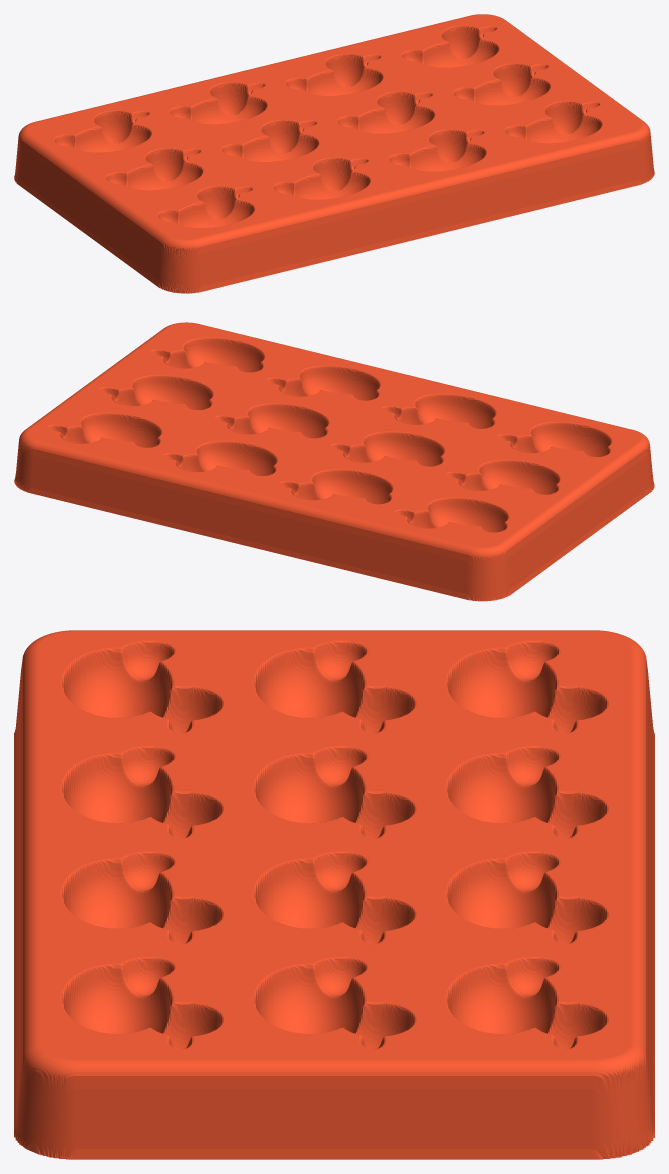
Rendered from mold.glb.
3 views of the same model, one above another, from view 1: azimuth 30°, elevation 25°; view 2: azimuth 150°, elevation 25°; view 3: azimuth 270°, elevation 25° (orthographic). The views are drawn at different scales.
Visible parts, largest first — view 1: geometry_0; view 2: geometry_0; view 3: geometry_0.
Part boxes in pixels (x1,y1,x2,y2): geometry_0: (14,14,654,293); geometry_0: (14,322,654,601); geometry_0: (14,630,654,1159).
Bounding box in the file's own units: 0.1548 × 0.0145 × 0.0935.
